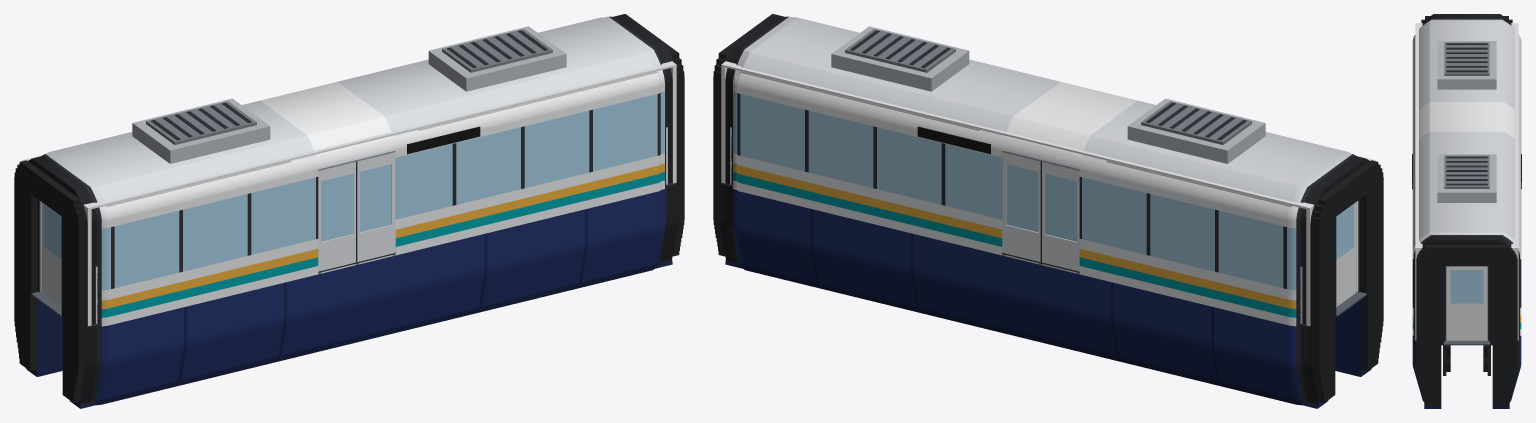
File: las_vegas_car.obj
3 views of the same model, side by side, from view 1: azimuth 30°, elevation 25°; view 2: azimuth 150°, elevation 25°; view 3: azimuth 270°, elevation 25° (orthographic). The views are drawn at different scales.
Visible parts, largest first — view 1: SHELL, SHELL_diaphragm, SHELL_roof, EXTERNAL_DOOR_4_CG_DR1_TOGGLE_TL_-0.79_X, EXTERNAL_DOOR_5_CG_DR1_TOGGLE_TL_0.79_X, SHELL_ceiling, CONNECTING_DOOR_1_CG_CR_TOGGLE_TL_0.98_Z, SHELL_end, SHELL_ad, SHELL_sign; view 2: SHELL, SHELL_diaphragm, SHELL_roof, EXTERNAL_DOOR_7_CG_DL1_TOGGLE_TL_-0.79_X, EXTERNAL_DOOR_8_CG_DL1_TOGGLE_TL_0.79_X, SHELL_ceiling, CONNECTING_DOOR_1_CG_CR_TOGGLE_TL_0.98_Z, SHELL_end, SHELL_ad, SHELL_sign; view 3: SHELL, SHELL_diaphragm, SHELL_roof, CONNECTING_DOOR_2_CG_CF_TOGGLE_TL_0.98_Z, SHELL_ceiling, BOGEY_FRONT, SHELL_end, SHELL_floor, SHELL_gangway.
Part boxes in pixels (<box>): SHELL: <box>26,14,677,408</box>; SHELL_diaphragm: <box>14,14,684,402</box>; SHELL_roof: <box>132,26,566,163</box>; EXTERNAL_DOOR_4_CG_DR1_TOGGLE_TL_-0.79_X: <box>318,161,357,271</box>; EXTERNAL_DOOR_5_CG_DR1_TOGGLE_TL_0.79_X: <box>357,152,395,261</box>; SHELL_ceiling: <box>25,62,672,209</box>; CONNECTING_DOOR_1_CG_CR_TOGGLE_TL_0.98_Z: <box>41,202,61,306</box>; SHELL_end: <box>22,61,676,326</box>; SHELL_ad: <box>106,71,657,207</box>; SHELL_sign: <box>406,126,480,154</box>; SHELL: <box>720,14,1371,408</box>; SHELL_diaphragm: <box>713,14,1383,402</box>; SHELL_roof: <box>831,26,1265,163</box>; EXTERNAL_DOOR_7_CG_DL1_TOGGLE_TL_-0.79_X: <box>1040,161,1079,271</box>; EXTERNAL_DOOR_8_CG_DL1_TOGGLE_TL_0.79_X: <box>1002,152,1040,261</box>; SHELL_ceiling: <box>724,62,1372,208</box>; CONNECTING_DOOR_1_CG_CR_TOGGLE_TL_0.98_Z: <box>1336,202,1356,306</box>; SHELL_end: <box>721,61,1375,326</box>; SHELL_ad: <box>740,71,1291,207</box>; SHELL_sign: <box>917,126,991,154</box>; SHELL: <box>1412,14,1521,408</box>; SHELL_diaphragm: <box>1416,16,1517,405</box>; SHELL_roof: <box>1437,41,1496,202</box>; CONNECTING_DOOR_2_CG_CF_TOGGLE_TL_0.98_Z: <box>1446,266,1487,340</box>; SHELL_ceiling: <box>1415,24,1518,246</box>; BOGEY_FRONT: <box>1443,343,1490,375</box>; SHELL_end: <box>1415,23,1518,340</box>; SHELL_floor: <box>1445,266,1488,338</box>; SHELL_gangway: <box>1444,339,1489,344</box>.
Size of the model in its own units: 13.32 by 4.86 by 2.66.
Materials: 1 (1 with a texture image).
